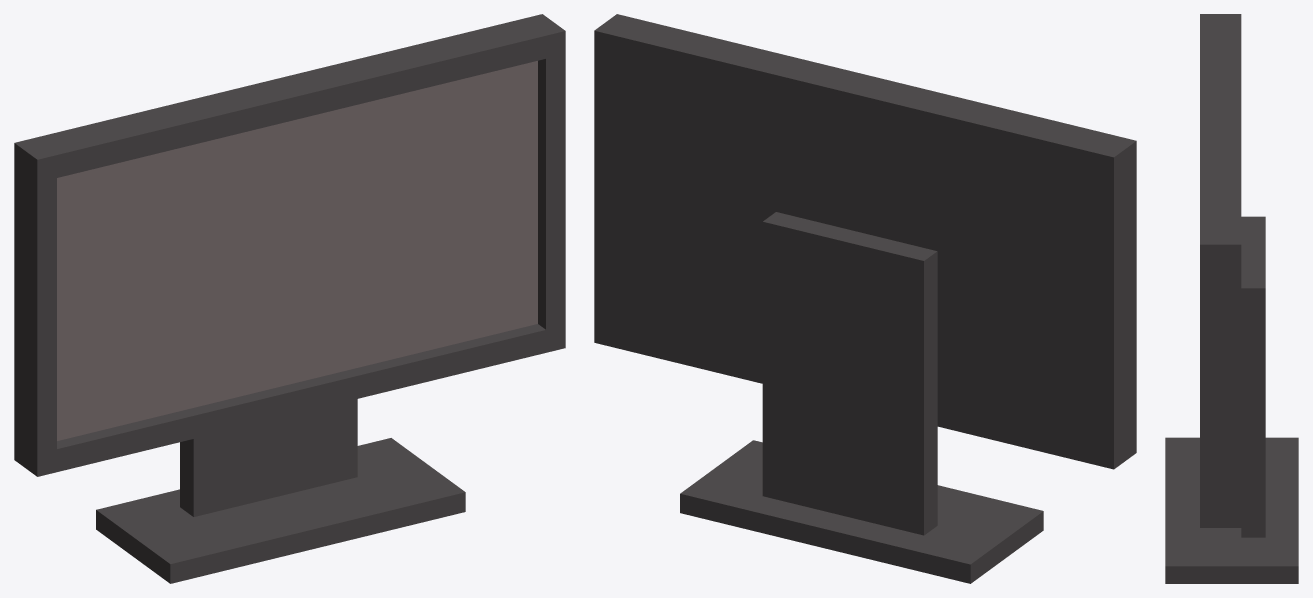
Rendered from SM_Monitor_1_01.fbx.
The picture shows the model from 3 angles, left to right: view 1: azimuth 30°, elevation 25°; view 2: azimuth 150°, elevation 25°; view 3: azimuth 270°, elevation 25°; orthographic projection. The views are drawn at different scales.
Visible parts, largest first — view 1: SM_Monitor_1_01; view 2: SM_Monitor_1_01; view 3: SM_Monitor_1_01.
Boxes of the visible parts, bbox=[...] form: SM_Monitor_1_01: bbox=[14, 14, 565, 583]; SM_Monitor_1_01: bbox=[594, 14, 1136, 583]; SM_Monitor_1_01: bbox=[1165, 14, 1298, 583].
Bounding box in the file's own units: 54.76 × 43.37 × 13.35.
